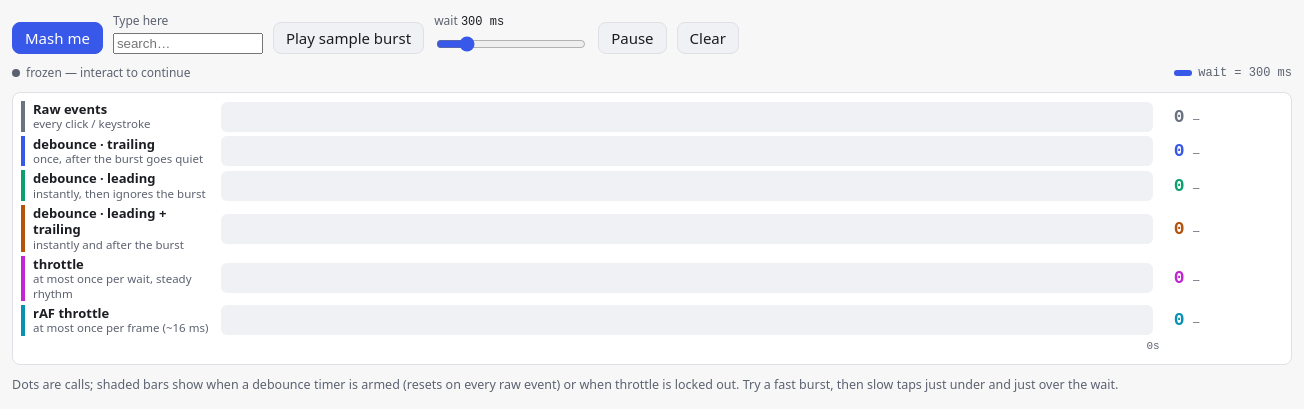
Test: TimelineVisualizer › shows raw vs debounced vs throttled fires on a shared axis
Click the button "Mash me": coordinates (57, 38) [12,22,103,54]
Wait 50 ms
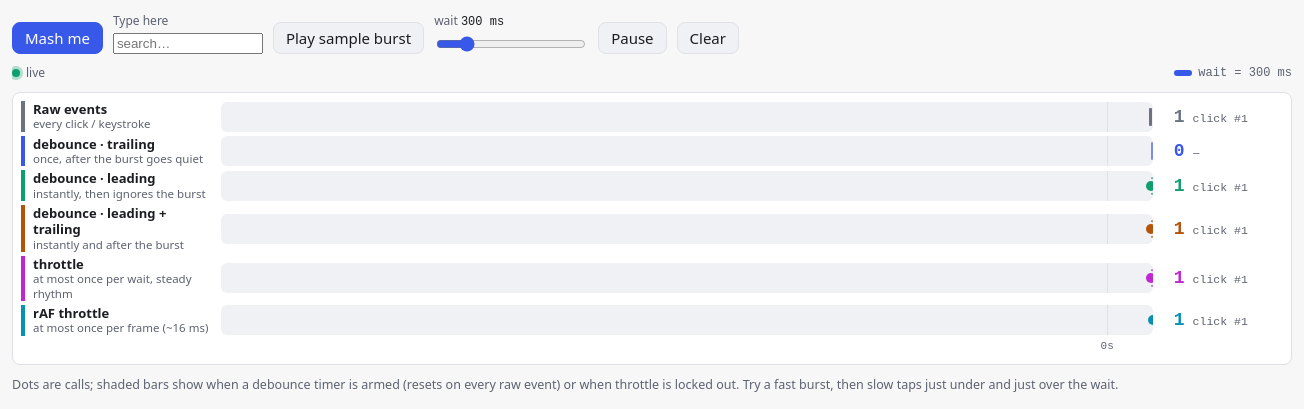
Click the button "Mash me": coordinates (57, 38) [12,22,103,54]
Wait 50 ms
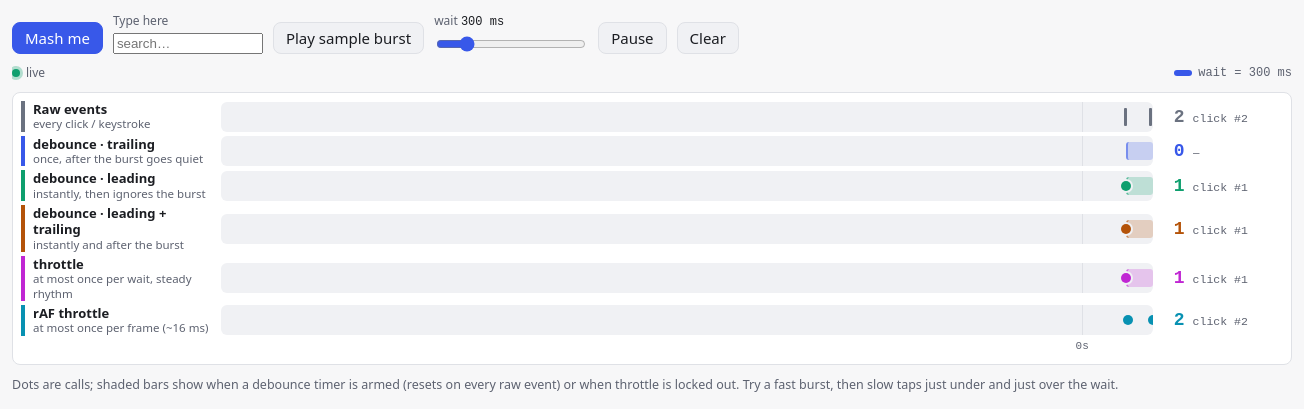
Click the button "Mash me": coordinates (57, 38) [12,22,103,54]
Wait 50 ms
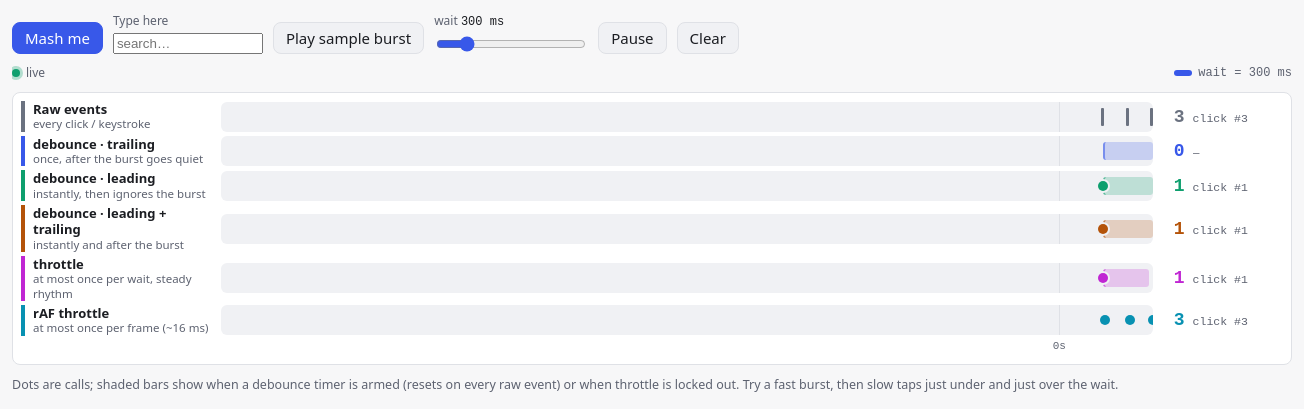
Click the button "Mash me": coordinates (57, 38) [12,22,103,54]
Wait 50 ms
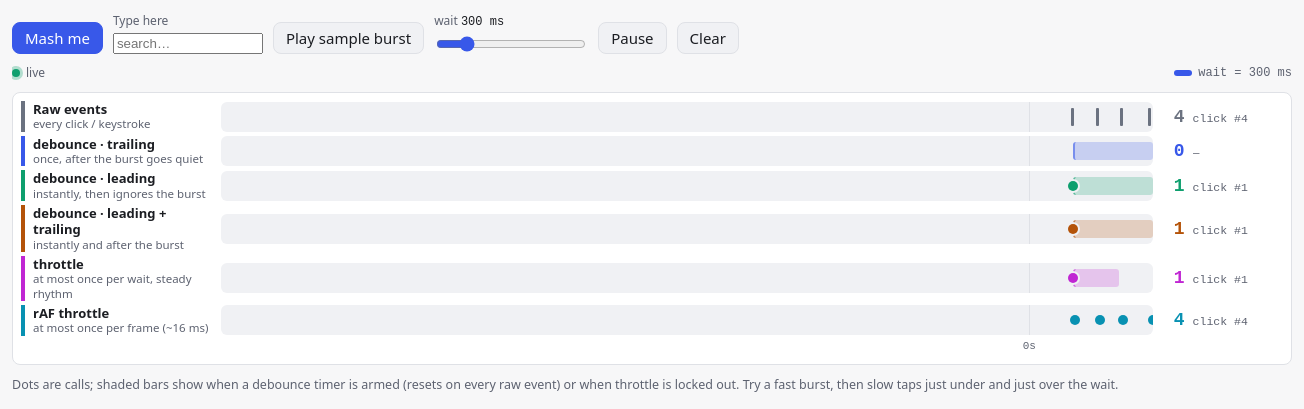
Click the button "Mash me": coordinates (57, 38) [12,22,103,54]
Wait 1050 ms
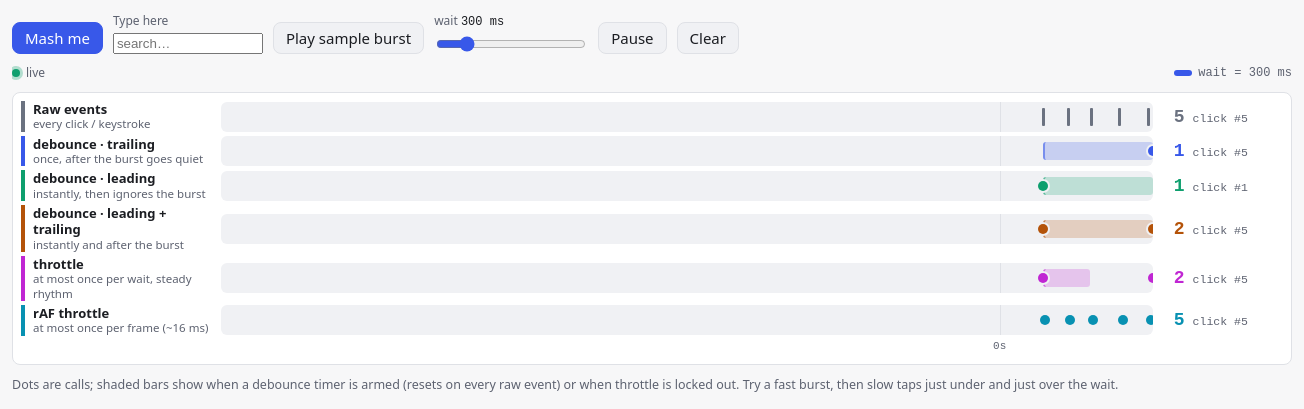
Expected: the picture named "debounce · trailing: 1 call" is shown, [221,136,1153,166]
